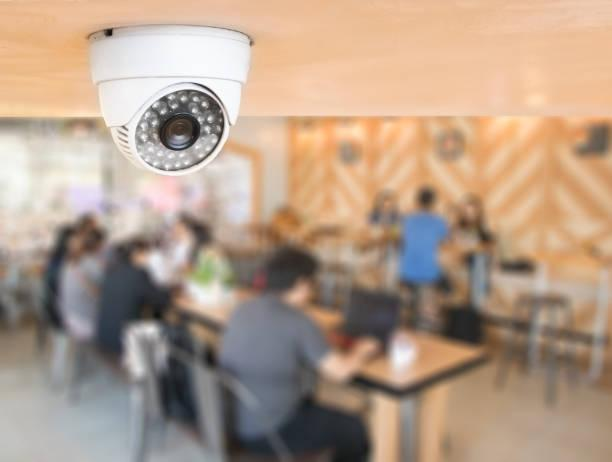camera: (58, 11, 294, 188)
